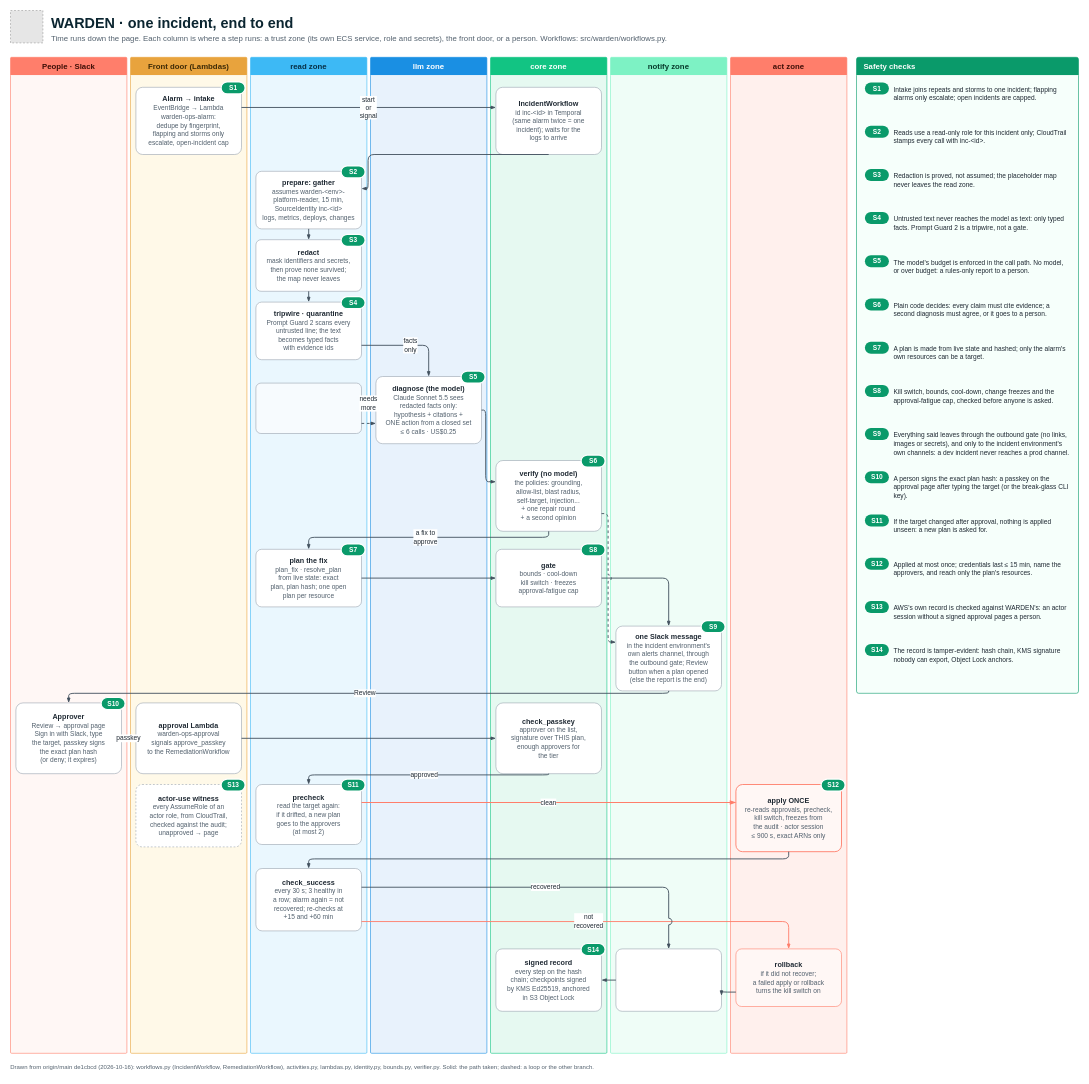
The diagram is 1089 pixels wide and 1084 high, and some of its shapes have lost their labels. Grey dashed boxes stand in for pictures. Here are the shapes that lost their labels. From the top down, the centre of each, then its label:
point (308, 408): investigate ≤ 2 rounds: read what trusted evidence names, then diagnose again
point (668, 979): finish how it ended, in Slack and on the records page (change record if set)
